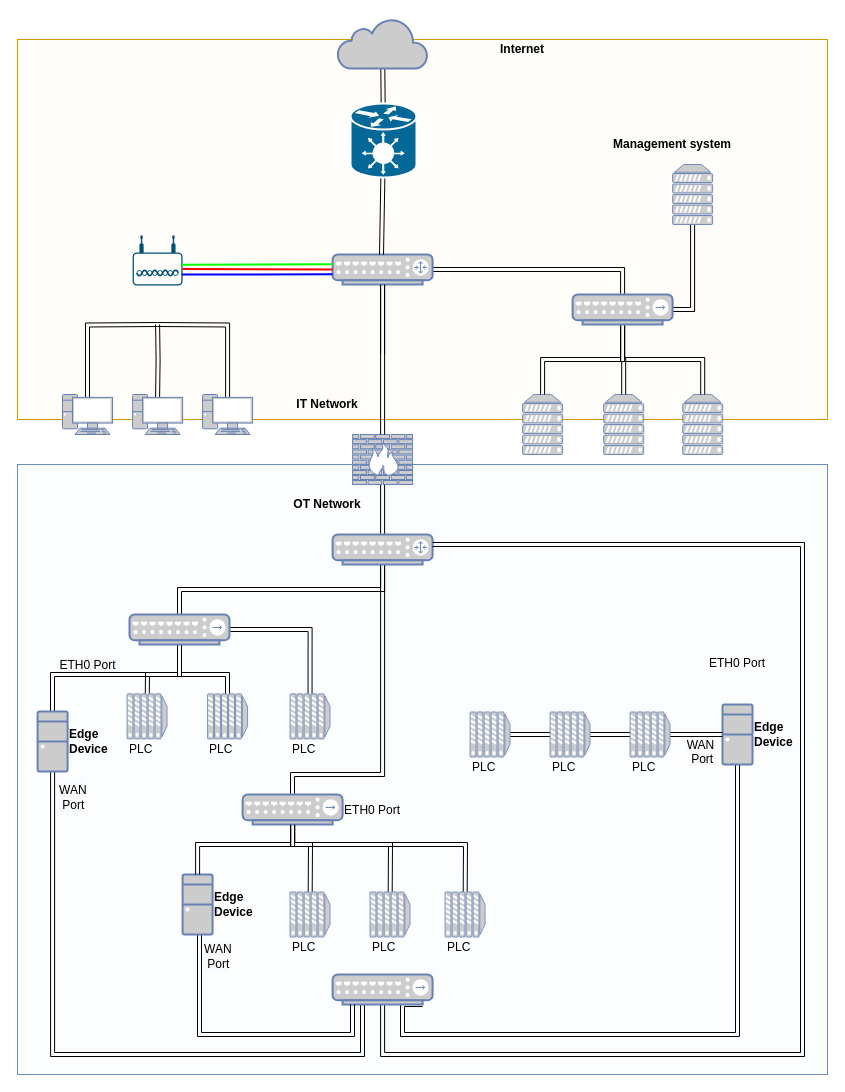
The diagram is 845 pixels wide and 1092 high, and some of its shapes have lost their labels. The box of each missing label's shape, as (x1, y1, x2, y2) in pixels:
OpnSense: (349, 102, 417, 178)
Ubiquiti UniFi AP AC Pro: (132, 235, 182, 285)
